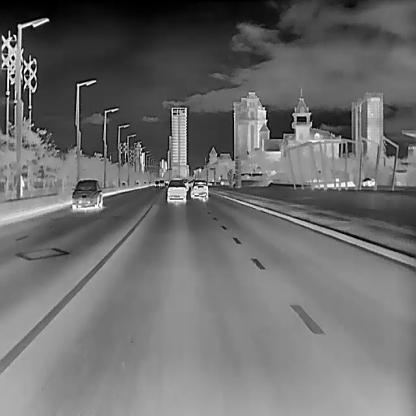car: (70, 178, 102, 210), (166, 178, 186, 202), (190, 180, 208, 199), (360, 176, 375, 187), (158, 180, 164, 186), (154, 180, 158, 186)
